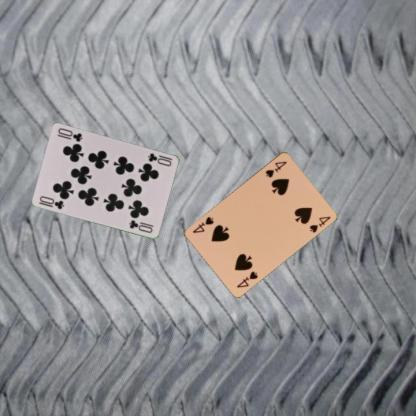10c: (36, 192, 66, 210), (145, 150, 173, 168)
4s: (234, 268, 259, 289), (262, 158, 288, 178)
